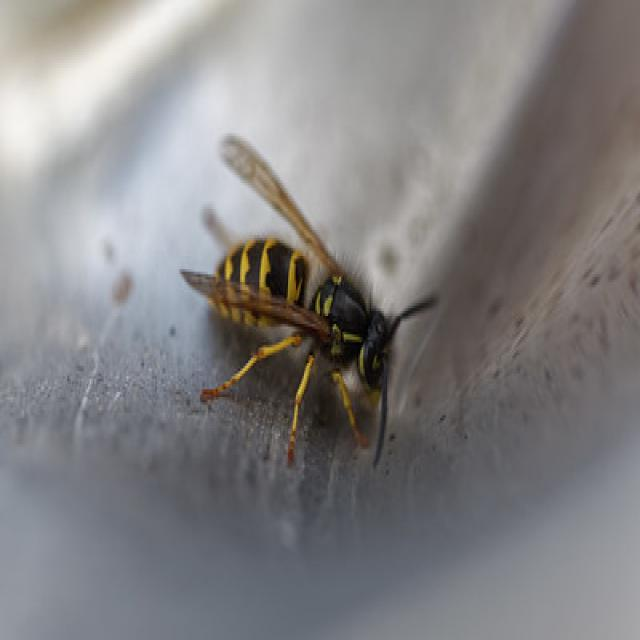Guepe: (154, 117, 436, 478)
